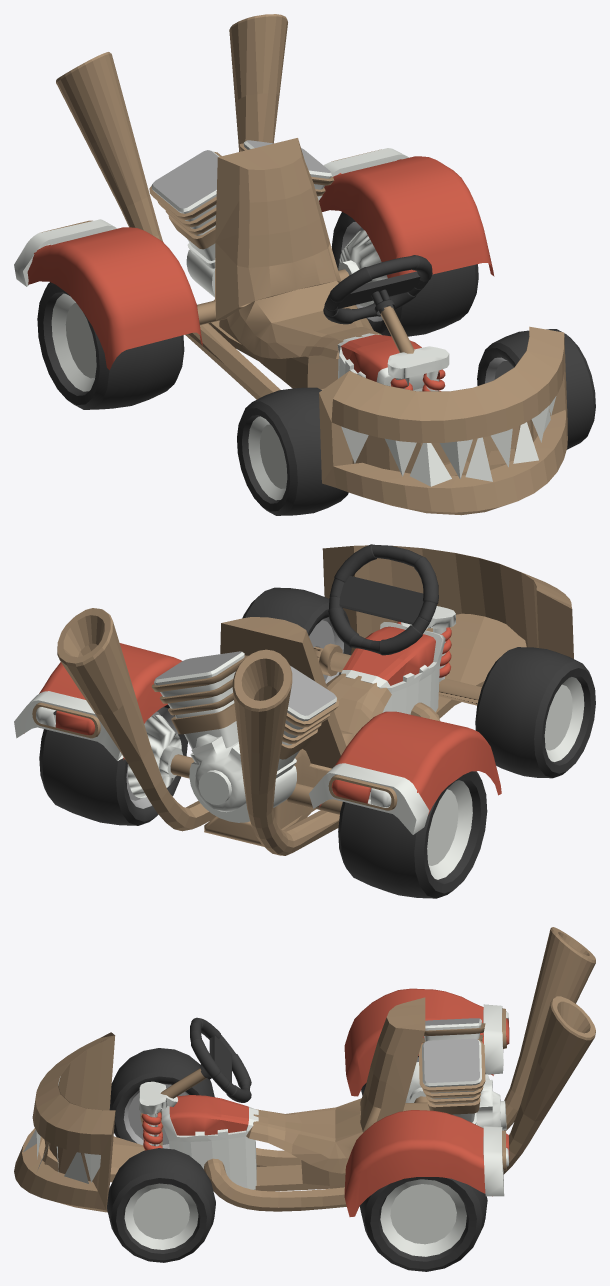
The model's file is MonsterKart.fbx.
3 renders of one model, top to bottom at view 1: azimuth 30°, elevation 25°; view 2: azimuth 150°, elevation 25°; view 3: azimuth 270°, elevation 25°, orthographic. The views are drawn at different scales.
Visible parts, largest first — view 1: BOdy, RL_Wheel, FL_Wheels, RR_Wheel, Steering, FR_Wheels; view 2: BOdy, FL_Wheels, RL_Wheel, RR_Wheel, Steering, FR_Wheels; view 3: BOdy, FR_Wheels, RR_Wheel, FL_Wheels, Steering.
Part boxes in pixels (box(x1,y1,x2,y2)): BOdy: box(14, 14, 567, 515); RL_Wheel: box(37, 282, 184, 409); FL_Wheels: box(237, 387, 348, 515); RR_Wheel: box(331, 212, 478, 336); Steering: box(323, 255, 432, 324); FR_Wheels: box(477, 329, 595, 449); BOdy: box(14, 545, 573, 855); FL_Wheels: box(475, 647, 595, 778); RL_Wheel: box(338, 771, 487, 898); RR_Wheel: box(39, 704, 187, 825); Steering: box(328, 544, 438, 655); FR_Wheels: box(242, 587, 351, 683); BOdy: box(14, 927, 595, 1216); FR_Wheels: box(107, 1148, 215, 1262); RR_Wheel: box(359, 1177, 487, 1271); FL_Wheels: box(109, 1048, 214, 1148); Steering: box(190, 1017, 251, 1102).
Bounding box in the file's own units: 14.33 × 9.55 × 21.08.
